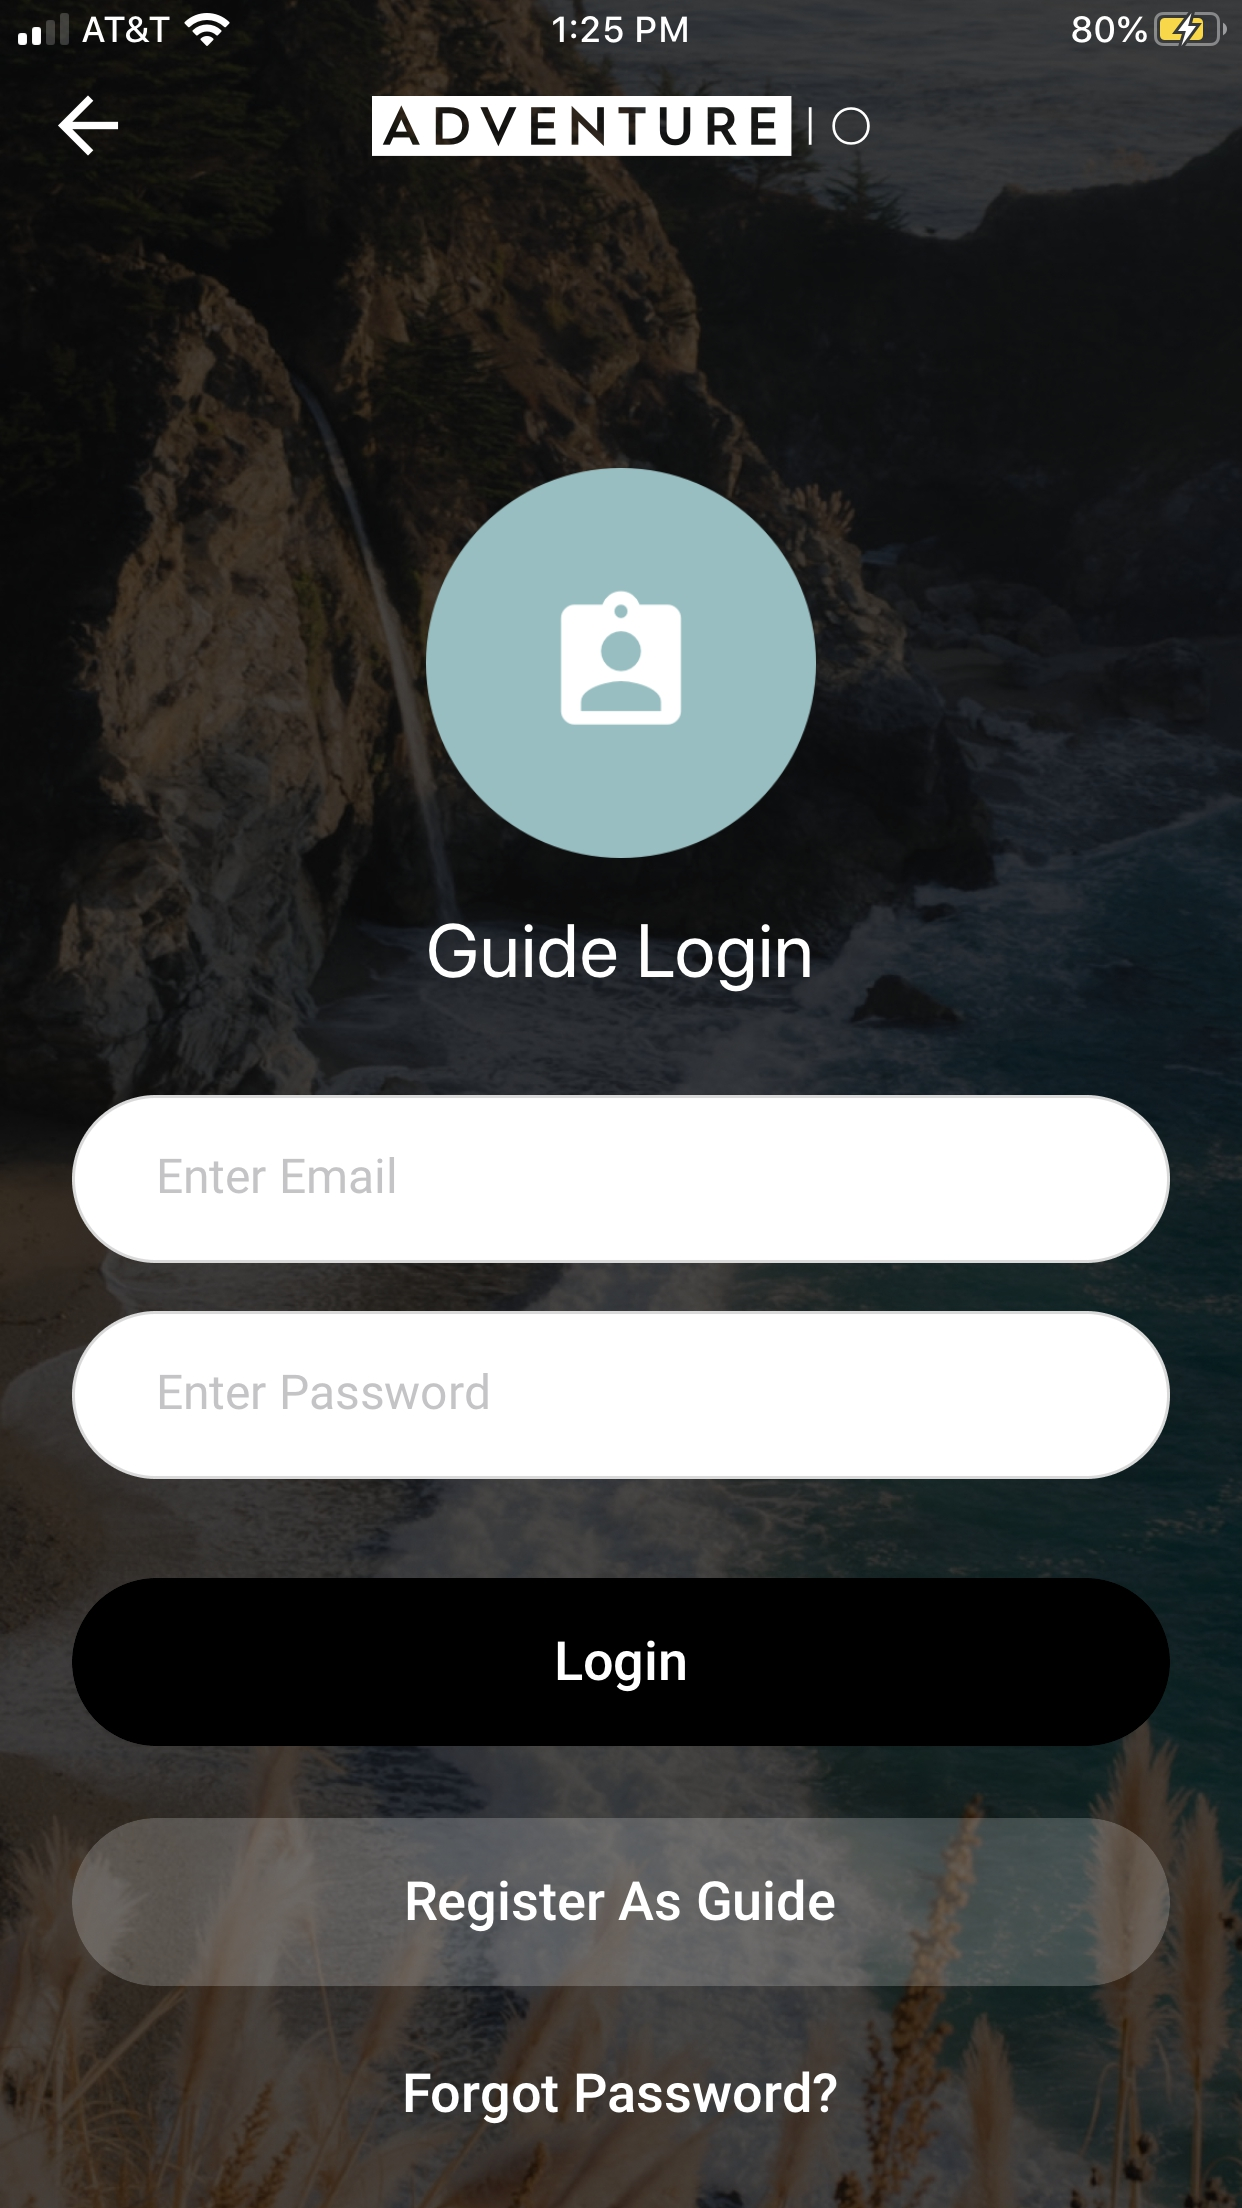BackgroundImage: (2, 2, 1242, 2208)
EditText: (71, 1093, 1171, 1265), (71, 1310, 1171, 1480)
Icon: (425, 469, 817, 860), (58, 94, 120, 158)
Image: (372, 97, 870, 158)
Text: (428, 922, 811, 993), (405, 2070, 839, 2125), (161, 1372, 490, 1410), (161, 1156, 396, 1195)
TextButton: (71, 1817, 1172, 1988), (71, 1577, 1171, 1749)
UpperTaskBar: (2, 2, 1242, 49)
